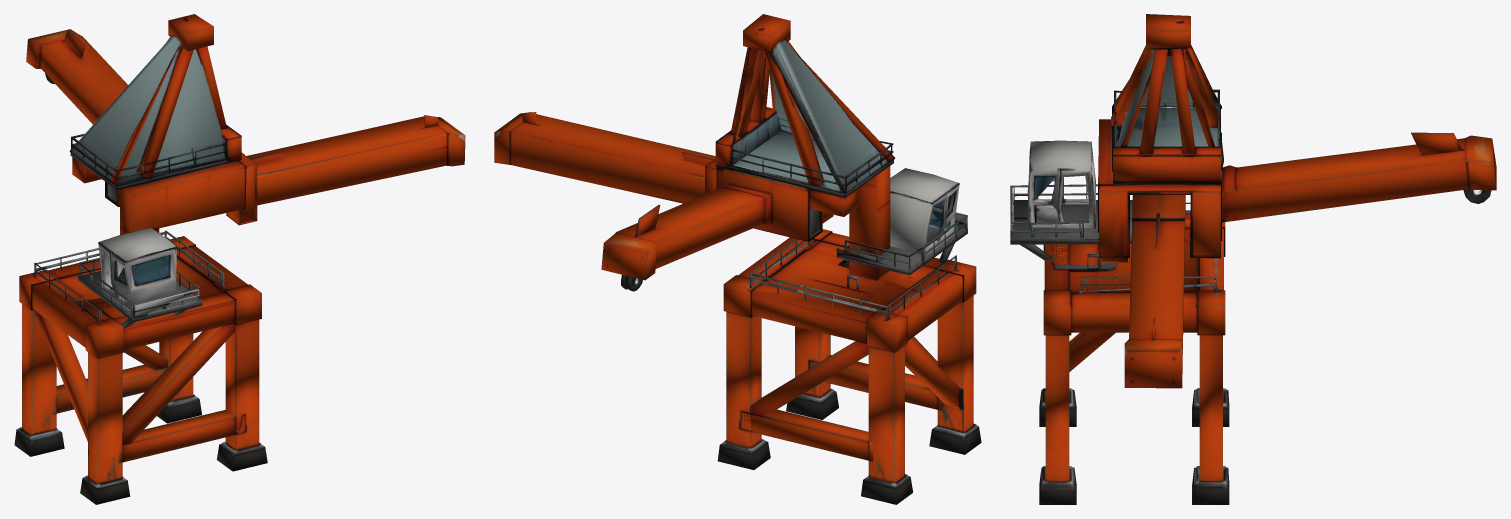
The model's file is crane.glb.
3 views of the same model, side by side, from view 1: azimuth 30°, elevation 25°; view 2: azimuth 150°, elevation 25°; view 3: azimuth 270°, elevation 25° (orthographic). The views are drawn at different scales.
Visible parts, largest first — view 1: tripo_node_51b169a9-5d60-4288-a976-d3c674b4fac8; view 2: tripo_node_51b169a9-5d60-4288-a976-d3c674b4fac8; view 3: tripo_node_51b169a9-5d60-4288-a976-d3c674b4fac8.
Boxes of the visible parts, box(x1,y1,x2,y2) form: tripo_node_51b169a9-5d60-4288-a976-d3c674b4fac8: box(14, 14, 465, 504); tripo_node_51b169a9-5d60-4288-a976-d3c674b4fac8: box(494, 14, 981, 504); tripo_node_51b169a9-5d60-4288-a976-d3c674b4fac8: box(1010, 14, 1496, 504).
Bounding box in the file's own units: 18.89 × 18 × 16.82.
Materials: 1 (1 with a texture image).
